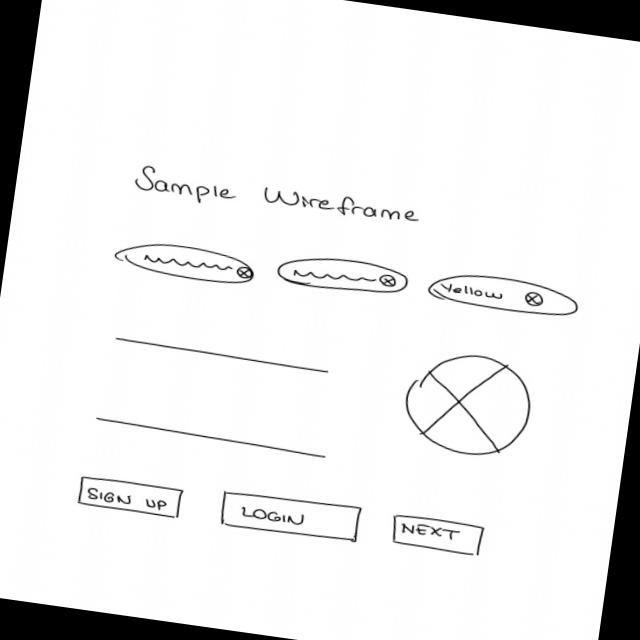button: (220, 488, 366, 547), (76, 475, 187, 523), (390, 514, 487, 558)
image: (397, 345, 539, 464)
label: (133, 164, 424, 237)
